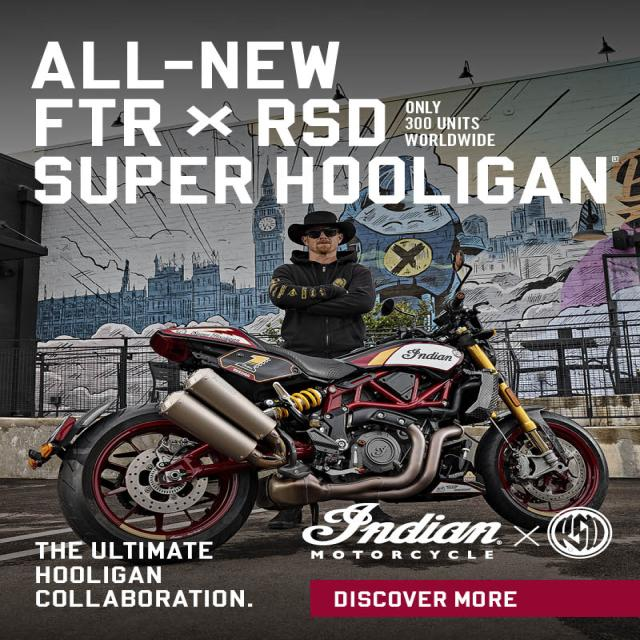motorcycle: (30, 292, 608, 564)
